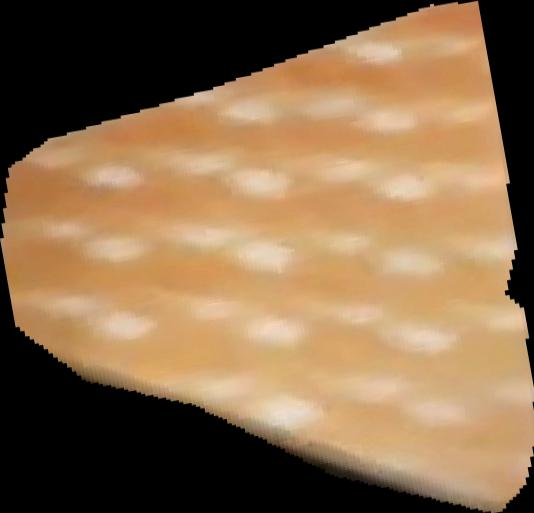flat: (1, 1, 534, 513)
